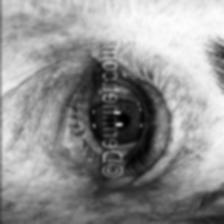Toxin: (68, 48, 99, 90)
